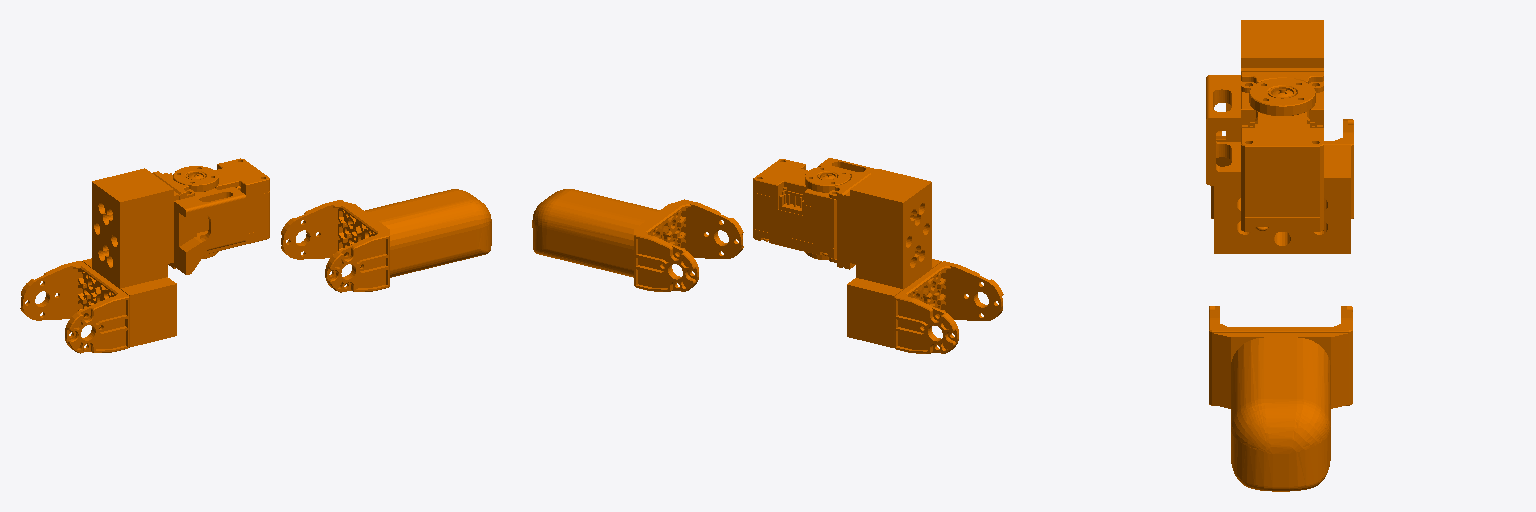
URDF robot description (onshape):
<robot name="onshape">
  <link name="palm_lower">
    <inertial>
      <origin xyz="0.0 0.0 0.0" rpy="0.0 -0.0 0.0"/>
      <mass value="0.237"/>
      <inertia ixx="0.000354094" ixy="-1.193e-06" ixz="-2.445e-06" iyy="0.000260915" iyz="-2.905e-06" izz="0.000529257"/>
    </inertial>
    <visual>
      <geometry>
        <mesh filename="../assets/leap/leap_hand/palm_lower.stl"/>
      </geometry>
      <origin xyz="-0.020095249652862544 0.025757756134899473 -0.034722403578460216" rpy="0.0 -0.0 0.0"/>
      <material name="palm_lower_material">
        <color rgba="0.6039215686274509 0.14901960784313725 0.14901960784313725 1.0"/>
      </material>
    </visual>
    <collision>
      <geometry>
        <mesh filename="../assets/leap/leap_hand/palm_lower.stl"/>
      </geometry>
      <origin xyz="-0.020095249652862544 0.025757756134899473 -0.034722403578460216" rpy="0.0 -0.0 0.0"/>
    </collision>
  </link>
  <link name="mcp_joint">
    <inertial>
      <origin xyz="0.0 0.0 0.0" rpy="0.0 -0.0 0.0"/>
      <mass value="0.044"/>
      <inertia ixx="1.1499e-05" ixy="3.049e-06" ixz="1.21e-07" iyy="7.796e-06" iyz="1.12e-07" izz="1.4759e-05"/>
    </inertial>
    <visual>
      <geometry>
        <mesh filename="../assets/leap/leap_hand/mcp_joint.stl"/>
      </geometry>
      <origin xyz="0.008406902261174496 0.0077662438597169954 0.014657354985032912" rpy="1.6375789613221e-15 -1.021047330249102e-30 1.7177968783327987e-31"/>
      <material name="mcp_joint_material">
        <color rgba="0.8666666666666667 0.8666666666666667 0.050980392156862744 1.0"/>
      </material>
    </visual>
    <collision>
      <geometry>
        <mesh filename="../assets/leap/leap_hand/mcp_joint.stl"/>
      </geometry>
      <origin xyz="0.008406902261174496 0.0077662438597169954 0.014657354985032912" rpy="1.6375789613221e-15 -1.021047330249102e-30 1.7177968783327987e-31"/>
    </collision>
  </link>
  <link name="pip">
    <inertial>
      <origin xyz="0.0 0.0 0.0" rpy="0.0 -0.0 0.0"/>
      <mass value="0.032"/>
      <inertia ixx="4.798e-06" ixy="1.2e-08" ixz="4e-09" iyy="2.862e-06" iyz="1.1e-08" izz="4.234e-06"/>
    </inertial>
    <visual>
      <geometry>
        <mesh filename="../assets/leap/leap_hand/pip.stl"/>
      </geometry>
      <origin xyz="0.009643363092271328 0.0002999999999999895 0.0007840340104173765" rpy="-1.5707963267948966 -1.5707963267948963 0.0"/>
      <material name="pip_material">
        <color rgba="0.7490196078431373 0.7490196078431373 0.7490196078431373 1.0"/>
      </material>
    </visual>
    <collision>
      <geometry>
        <mesh filename="../assets/leap/leap_hand/pip.stl"/>
      </geometry>
      <origin xyz="0.009643363092271328 0.0002999999999999895 0.0007840340104173765" rpy="-1.5707963267948966 -1.5707963267948963 0.0"/>
    </collision>
  </link>
  <link name="dip">
    <inertial>
      <origin xyz="0.0 0.0 0.0" rpy="0.0 -0.0 0.0"/>
      <mass value="0.037"/>
      <inertia ixx="5.542e-06" ixy="-6.07e-07" ixz="-1.7e-08" iyy="5.727e-06" iyz="-2.3e-08" izz="6.682e-06"/>
    </inertial>
    <visual>
      <geometry>
        <mesh filename="../assets/leap/leap_hand/dip.stl"/>
      </geometry>
      <origin xyz="0.021133352895225003 -0.00843211914670488 0.00978508816209524" rpy="-3.141592653589793 4.507511124216441e-32 4.439548105392361e-32"/>
      <material name="dip_material">
        <color rgba="0.8666666666666667 0.8666666666666667 0.050980392156862744 1.0"/>
      </material>
    </visual>
    <collision>
      <geometry>
        <mesh filename="../assets/leap/leap_hand/dip.stl"/>
      </geometry>
      <origin xyz="0.021133352895225003 -0.00843211914670488 0.00978508816209524" rpy="-3.141592653589793 4.507511124216441e-32 4.439548105392361e-32"/>
    </collision>
  </link>
  <link name="fingertip">
    <inertial>
      <origin xyz="0.0 0.0 0.0" rpy="0.0 -0.0 0.0"/>
      <mass value="0.016"/>
      <inertia ixx="3.368e-06" ixy="1.15e-07" ixz="0.0" iyy="1.556e-06" iyz="0.0" izz="2.863e-06"/>
    </inertial>
    <visual>
      <geometry>
        <mesh filename="../assets/leap/leap_hand/fingertip.stl"/>
      </geometry>
      <origin xyz="0.013286424108533503 -0.006114238386541987 0.014499999999999498" rpy="3.141592653589793 1.1993117970061735e-33 4.439548105392361e-32"/>
      <material name="fingertip_material">
        <color rgba="0.8666666666666667 0.8666666666666667 0.050980392156862744 1.0"/>
      </material>
    </visual>
    <collision>
      <geometry>
        <mesh filename="../assets/leap/leap_hand/fingertip.stl"/>
      </geometry>
      <origin xyz="0.013286424108533503 -0.006114238386541987 0.014499999999999498" rpy="3.141592653589793 1.1993117970061735e-33 4.439548105392361e-32"/>
    </collision>
  </link>
  <link name="pip_4">
    <inertial>
      <origin xyz="0.0 0.0 0.0" rpy="0.0 -0.0 0.0"/>
      <mass value="0.032"/>
      <inertia ixx="4.798e-06" ixy="1.2e-08" ixz="4e-09" iyy="2.862e-06" iyz="1.1e-08" izz="4.234e-06"/>
    </inertial>
    <visual>
      <geometry>
        <mesh filename="../assets/leap/leap_hand/pip.stl"/>
      </geometry>
      <origin xyz="-0.005356636907728671 0.0002999999999999999 0.0007840340104173782" rpy="-1.5707963267948966 -1.5707963267948963 0.0"/>
      <material name="pip_material">
        <color rgba="0.7490196078431373 0.7490196078431373 0.7490196078431373 1.0"/>
      </material>
    </visual>
    <collision>
      <geometry>
        <mesh filename="../assets/leap/leap_hand/pip.stl"/>
      </geometry>
      <origin xyz="-0.005356636907728671 0.0002999999999999999 0.0007840340104173782" rpy="-1.5707963267948966 -1.5707963267948963 0.0"/>
    </collision>
  </link>
  <link name="thumb_pip">
    <inertial>
      <origin xyz="0.0 0.0 0.0" rpy="0.0 -0.0 0.0"/>
      <mass value="0.003"/>
      <inertia ixx="5.93e-07" ixy="0.0" ixz="0.0" iyy="5.49e-07" iyz="0.0" izz="2.24e-07"/>
    </inertial>
    <visual>
      <geometry>
        <mesh filename="../assets/leap/leap_hand/thumb_pip.stl"/>
      </geometry>
      <origin xyz="0.011961920770611187 -5.30825383648903e-16 -0.0158526489566642" rpy="1.5707963267948966 1.6050198443300153e-46 -3.9204996250525193e-59"/>
      <material name="thumb_pip_material">
        <color rgba="0.8666666666666667 0.8666666666666667 0.050980392156862744 1.0"/>
      </material>
    </visual>
    <collision>
      <geometry>
        <mesh filename="../assets/leap/leap_hand/thumb_pip.stl"/>
      </geometry>
      <origin xyz="0.011961920770611187 -5.30825383648903e-16 -0.0158526489566642" rpy="1.5707963267948966 1.6050198443300153e-46 -3.9204996250525193e-59"/>
    </collision>
  </link>
  <link name="thumb_dip">
    <inertial>
      <origin xyz="0.0 0.0 0.0" rpy="0.0 -0.0 0.0"/>
      <mass value="0.038"/>
      <inertia ixx="8.474e-06" ixy="2.41e-07" ixz="2.6e-08" iyy="3.841e-06" iyz="2.5e-08" izz="7.679e-06"/>
    </inertial>
    <visual>
      <geometry>
        <mesh filename="../assets/leap/leap_hand/thumb_dip.stl"/>
      </geometry>
      <origin xyz="0.043968715707239175 0.0579529529737092 -0.008628676449369476" rpy="1.94289029309401e-16 3.27515792264422e-15 1.112375852965736e-46"/>
      <material name="thumb_dip_material">
        <color rgba="0.8666666666666667 0.8666666666666667 0.050980392156862744 1.0"/>
      </material>
    </visual>
    <collision>
      <geometry>
        <mesh filename="../assets/leap/leap_hand/thumb_dip.stl"/>
      </geometry>
      <origin xyz="0.043968715707239175 0.0579529529737092 -0.008628676449369476" rpy="1.94289029309401e-16 3.27515792264422e-15 1.112375852965736e-46"/>
    </collision>
  </link>
  <link name="thumb_fingertip">
    <inertial>
      <origin xyz="0.0 0.0 0.0" rpy="0.0 -0.0 0.0"/>
      <mass value="0.049"/>
      <inertia ixx="2.0372e-05" ixy="-4.89e-07" ixz="-3e-08" iyy="4.336e-06" iyz="-9.7e-08" izz="1.9845e-05"/>
    </inertial>
    <visual>
      <geometry>
        <mesh filename="../assets/leap/leap_hand/thumb_fingertip.stl"/>
      </geometry>
      <origin xyz="0.06255953846266739 0.07845968291139699 0.048992911807332215" rpy="4.379057701015637e-47 -3.33066907387547e-16 1.2042408677791935e-46"/>
      <material name="thumb_fingertip_material">
        <color rgba="0.6039215686274509 0.14901960784313725 0.14901960784313725 1.0"/>
      </material>
    </visual>
    <collision>
      <geometry>
        <mesh filename="../assets/leap/leap_hand/thumb_fingertip.stl"/>
      </geometry>
      <origin xyz="0.06255953846266739 0.07845968291139699 0.048992911807332215" rpy="4.379057701015637e-47 -3.33066907387547e-16 1.2042408677791935e-46"/>
    </collision>
  </link>
  <link name="mcp_joint_2">
    <inertial>
      <origin xyz="0.0 0.0 0.0" rpy="0.0 -0.0 0.0"/>
      <mass value="0.044"/>
      <inertia ixx="1.1499e-05" ixy="3.049e-06" ixz="1.21e-07" iyy="7.796e-06" iyz="1.12e-07" izz="1.4759e-05"/>
    </inertial>
    <visual>
      <geometry>
        <mesh filename="../assets/leap/leap_hand/mcp_joint.stl"/>
      </geometry>
      <origin xyz="0.008406902261174496 0.0077662438597169954 0.014657354985032914" rpy="1.6375789613221e-15 -1.0076465469034e-30 2.1209300131419907e-61"/>
      <material name="mcp_joint_material">
        <color rgba="0.8666666666666667 0.8666666666666667 0.050980392156862744 1.0"/>
      </material>
    </visual>
    <collision>
      <geometry>
        <mesh filename="../assets/leap/leap_hand/mcp_joint.stl"/>
      </geometry>
      <origin xyz="0.008406902261174496 0.0077662438597169954 0.014657354985032914" rpy="1.6375789613221e-15 -1.0076465469034e-30 2.1209300131419907e-61"/>
    </collision>
  </link>
  <link name="pip_2">
    <inertial>
      <origin xyz="0.0 0.0 0.0" rpy="0.0 -0.0 0.0"/>
      <mass value="0.032"/>
      <inertia ixx="4.798e-06" ixy="1.2e-08" ixz="4e-09" iyy="2.862e-06" iyz="1.1e-08" izz="4.234e-06"/>
    </inertial>
    <visual>
      <geometry>
        <mesh filename="../assets/leap/leap_hand/pip.stl"/>
      </geometry>
      <origin xyz="0.009643363092271328 0.0002999999999999947 0.0007840340104173765" rpy="-1.5707963267948966 -1.5707963267948963 0.0"/>
      <material name="pip_material">
        <color rgba="0.7490196078431373 0.7490196078431373 0.7490196078431373 1.0"/>
      </material>
    </visual>
    <collision>
      <geometry>
        <mesh filename="../assets/leap/leap_hand/pip.stl"/>
      </geometry>
      <origin xyz="0.009643363092271328 0.0002999999999999947 0.0007840340104173765" rpy="-1.5707963267948966 -1.5707963267948963 0.0"/>
    </collision>
  </link>
  <link name="dip_2">
    <inertial>
      <origin xyz="0.0 0.0 0.0" rpy="0.0 -0.0 0.0"/>
      <mass value="0.037"/>
      <inertia ixx="5.542e-06" ixy="-6.07e-07" ixz="-1.7e-08" iyy="5.727e-06" iyz="-2.3e-08" izz="6.682e-06"/>
    </inertial>
    <visual>
      <geometry>
        <mesh filename="../assets/leap/leap_hand/dip.stl"/>
      </geometry>
      <origin xyz="0.021133352895225003 -0.008432119146704865 0.009785088162095237" rpy="-3.141592653589793 2.1146933785271956e-32 1.4408183216511869e-31"/>
      <material name="dip_material">
        <color rgba="0.8666666666666667 0.8666666666666667 0.050980392156862744 1.0"/>
      </material>
    </visual>
    <collision>
      <geometry>
        <mesh filename="../assets/leap/leap_hand/dip.stl"/>
      </geometry>
      <origin xyz="0.021133352895225003 -0.008432119146704865 0.009785088162095237" rpy="-3.141592653589793 2.1146933785271956e-32 1.4408183216511869e-31"/>
    </collision>
  </link>
  <link name="fingertip_2">
    <inertial>
      <origin xyz="0.0 0.0 0.0" rpy="0.0 -0.0 0.0"/>
      <mass value="0.016"/>
      <inertia ixx="3.368e-06" ixy="1.15e-07" ixz="0.0" iyy="1.556e-06" iyz="0.0" izz="2.863e-06"/>
    </inertial>
    <visual>
      <geometry>
        <mesh filename="../assets/leap/leap_hand/fingertip.stl"/>
      </geometry>
      <origin xyz="0.013286424108533496 -0.006114238386542001 0.014499999999999496" rpy="3.141592653589793 -4.317959788283594e-33 1.4408183216511869e-31"/>
      <material name="fingertip_material">
        <color rgba="0.8666666666666667 0.8666666666666667 0.050980392156862744 1.0"/>
      </material>
    </visual>
    <collision>
      <geometry>
        <mesh filename="../assets/leap/leap_hand/fingertip.stl"/>
      </geometry>
      <origin xyz="0.013286424108533496 -0.006114238386542001 0.014499999999999496" rpy="3.141592653589793 -4.317959788283594e-33 1.4408183216511869e-31"/>
    </collision>
  </link>
  <link name="mcp_joint_3_long">
    <inertial>
      <origin xyz="0.0 0.0 0.0" rpy="0.0 -0.0 0.0"/>
      <mass value="0.044"/>
      <inertia ixx="1.1499e-05" ixy="3.049e-06" ixz="1.21e-07" iyy="7.796e-06" iyz="1.12e-07" izz="1.4759e-05"/>
    </inertial>
    <visual>
      <geometry>
        <mesh filename="custom_models/mcp_joint_long.stl"/>
      </geometry>
      <origin xyz="0.0084069022611745 0.007766243859716996 0.014657354985032914" rpy="1.6375789613221e-15 -1.0059504988632627e-30 5.729641584552035e-32"/>
      <material name="mcp_joint_material">
        <color rgba="0.878 0.467 0.0 1.0"/>
      </material>
    </visual>
    <collision>
      <geometry>
        <mesh filename="custom_models/mcp_joint_long.stl"/>
      </geometry>
      <origin xyz="0.0084069022611745 0.007766243859716996 0.014657354985032914" rpy="1.6375789613221e-15 -1.0059504988632627e-30 5.729641584552035e-32"/>
    </collision>
  </link>
  <link name="pip_3">
    <inertial>
      <origin xyz="0.0 0.0 0.0" rpy="0.0 -0.0 0.0"/>
      <mass value="0.032"/>
      <inertia ixx="4.798e-06" ixy="1.2e-08" ixz="4e-09" iyy="2.862e-06" iyz="1.1e-08" izz="4.234e-06"/>
    </inertial>
    <visual>
      <geometry>
        <mesh filename="../assets/leap/leap_hand/pip.stl"/>
      </geometry>
      <origin xyz="0.009643363092271331 0.00029999999999998084 0.0007840340104173765" rpy="-1.5707963267948966 -1.5707963267948963 0.0"/>
      <material name="pip_material">
        <color rgba="0.7490196078431373 0.7490196078431373 0.7490196078431373 1.0"/>
      </material>
    </visual>
    <collision>
      <geometry>
        <mesh filename="../assets/leap/leap_hand/pip.stl"/>
      </geometry>
      <origin xyz="0.009643363092271331 0.00029999999999998084 0.0007840340104173765" rpy="-1.5707963267948966 -1.5707963267948963 0.0"/>
    </collision>
  </link>
  <link name="dip_3">
    <inertial>
      <origin xyz="0.0 0.0 0.0" rpy="0.0 -0.0 0.0"/>
      <mass value="0.037"/>
      <inertia ixx="5.542e-06" ixy="-6.07e-07" ixz="-1.7e-08" iyy="5.727e-06" iyz="-2.3e-08" izz="6.682e-06"/>
    </inertial>
    <visual>
      <geometry>
        <mesh filename="../assets/leap/leap_hand/dip.stl"/>
      </geometry>
      <origin xyz="0.021133352895225006 -0.008432119146704865 0.009785088162095237" rpy="-3.141592653589793 -1.4095651113919093e-33 1.5565411607615035e-32"/>
      <material name="dip_material">
        <color rgba="0.8666666666666667 0.8666666666666667 0.050980392156862744 1.0"/>
      </material>
    </visual>
    <collision>
      <geometry>
        <mesh filename="../assets/leap/leap_hand/dip.stl"/>
      </geometry>
      <origin xyz="0.021133352895225006 -0.008432119146704865 0.009785088162095237" rpy="-3.141592653589793 -1.4095651113919093e-33 1.5565411607615035e-32"/>
    </collision>
  </link>
  <link name="fingertip_3_long">
    <inertial>
      <origin xyz="0.0 0.0 0.0" rpy="0.0 -0.0 0.0"/>
      <mass value="0.016"/>
      <inertia ixx="3.368e-06" ixy="1.15e-07" ixz="0.0" iyy="1.556e-06" iyz="0.0" izz="2.863e-06"/>
    </inertial>
    <visual>
      <geometry>
        <mesh filename="custom_models/fingertip_long.stl"/>
      </geometry>
      <origin xyz="0.013286424108533501 -0.006114238386541987 0.0144999999999995" rpy="3.141592653589793 8.61707169505754e-33 1.5565411607615035e-32"/>
      <material name="fingertip_material">
        <color rgba="0.878 0.467 0.0 1.0"/>
      </material>
    </visual>
    <collision>
      <geometry>
        <mesh filename="custom_models/fingertip_long.stl"/>
      </geometry>
      <origin xyz="0.013286424108533501 -0.006114238386541987 0.0144999999999995" rpy="3.141592653589793 8.61707169505754e-33 1.5565411607615035e-32"/>
    </collision>
  </link>
  <joint name="1" type="revolute">
    <parent link="palm_lower"/>
    <child link="mcp_joint"/>
    <origin xyz="-0.007095249652862546 0.023057756134899472 -0.01872240357846022" rpy="1.570796326794895 1.5707963267948946 0.0"/>
    <axis xyz="0.0 0.0 -1.0"/>
    <limit effort="0.95" velocity="8.48" lower="-0.314" upper="2.23"/>
  </joint>
  <joint name="0" type="revolute">
    <parent link="mcp_joint"/>
    <child link="pip"/>
    <origin xyz="-0.012200000000000008 0.038099999999999995 0.0145" rpy="-1.5707963267948966 -1.0065212660796337e-15 1.5707963267948943"/>
    <axis xyz="0.0 0.0 -1.0"/>
    <limit effort="0.95" velocity="8.48" lower="-1.047" upper="1.047"/>
  </joint>
  <joint name="2" type="revolute">
    <parent link="pip"/>
    <child link="dip"/>
    <origin xyz="0.014999999999999968 0.014299999999999905 -0.012999999999999824" rpy="1.570796326794896 -1.5707963267948963 0.0"/>
    <axis xyz="0.0 0.0 -1.0"/>
    <limit effort="0.95" velocity="8.48" lower="-0.506" upper="1.885"/>
  </joint>
  <joint name="3" type="revolute">
    <parent link="dip"/>
    <child link="fingertip"/>
    <origin xyz="-4.088058249557269e-09 -0.03610000421036737 0.0002000000000000786" rpy="4.5935029425113685e-17 -2.8730071914463795e-16 4.439548105392361e-32"/>
    <axis xyz="0.0 0.0 -1.0"/>
    <limit effort="0.95" velocity="8.48" lower="-0.366" upper="2.042"/>
  </joint>
  <joint name="12" type="revolute">
    <parent link="palm_lower"/>
    <child link="pip_4"/>
    <origin xyz="-0.06939524965286253 -0.0012422438651005258 -0.021622403578460216" rpy="-8.238176646493942e-17 1.5707963267948957 0.0"/>
    <axis xyz="0.0 0.0 -1.0"/>
    <limit effort="0.95" velocity="8.48" lower="-0.349" upper="2.094"/>
  </joint>
  <joint name="13" type="revolute">
    <parent link="pip_4"/>
    <child link="thumb_pip"/>
    <origin xyz="-2.7755575615628914e-17 0.014300000000000005 -0.013000000000000012" rpy="1.570796326794896 -1.5707963267948963 0.0"/>
    <axis xyz="0.0 0.0 -1.0"/>
    <limit effort="0.95" velocity="8.48" lower="-0.47" upper="2.443"/>
  </joint>
  <joint name="14" type="revolute">
    <parent link="thumb_pip"/>
    <child link="thumb_dip"/>
    <origin xyz="0.0 0.014499999999999966 -0.017000000000000053" rpy="-1.5707963267948966 1.6050198443300131e-46 -1.9721522630516625e-31"/>
    <axis xyz="0.0 0.0 -1.0"/>
    <limit effort="0.95" velocity="8.48" lower="-1.2" upper="1.9"/>
  </joint>
  <joint name="15" type="revolute">
    <parent link="thumb_dip"/>
    <child link="thumb_fingertip"/>
    <origin xyz="-1.249000902703301e-16 0.046599999999999864 0.0001999999999999771" rpy="1.506395849149178e-44 5.423418723393526e-31 3.141592653589793"/>
    <axis xyz="0.0 0.0 -1.0"/>
    <limit effort="0.95" velocity="8.48" lower="-1.34" upper="1.88"/>
  </joint>
  <joint name="5" type="revolute">
    <parent link="palm_lower"/>
    <child link="mcp_joint_2"/>
    <origin xyz="-0.007095249652862546 -0.022392243865100525 -0.01872240357846022" rpy="1.570796326794895 1.5707963267948946 0.0"/>
    <axis xyz="0.0 0.0 -1.0"/>
    <limit effort="0.95" velocity="8.48" lower="-0.314" upper="2.23"/>
  </joint>
  <joint name="4" type="revolute">
    <parent link="mcp_joint_2"/>
    <child link="pip_2"/>
    <origin xyz="-0.012200000000000008 0.038099999999999995 0.0145" rpy="-1.5707963267948966 -1.0065212660796337e-15 1.5707963267948943"/>
    <axis xyz="0.0 0.0 -1.0"/>
    <limit effort="0.95" velocity="8.48" lower="-1.047" upper="1.047"/>
  </joint>
  <joint name="6" type="revolute">
    <parent link="pip_2"/>
    <child link="dip_2"/>
    <origin xyz="0.014999999999999968 0.014299999999999905 -0.012999999999999824" rpy="1.570796326794896 -1.5707963267948963 0.0"/>
    <axis xyz="0.0 0.0 -1.0"/>
    <limit effort="0.95" velocity="8.48" lower="-0.506" upper="1.885"/>
  </joint>
  <joint name="7" type="revolute">
    <parent link="dip_2"/>
    <child link="fingertip_2"/>
    <origin xyz="-4.088058249557269e-09 -0.03610000421036737 0.0002000000000000786" rpy="4.5935029425113685e-17 -2.8730071914463795e-16 4.439548105392361e-32"/>
    <axis xyz="0.0 0.0 -1.0"/>
    <limit effort="0.95" velocity="8.48" lower="-0.366" upper="2.042"/>
  </joint>
  <joint name="9" type="revolute">
    <parent link="palm_lower"/>
    <child link="mcp_joint_3_long"/>
    <origin xyz="-0.007095249652862546 -0.06784224386510052 -0.01872240357846022" rpy="1.570796326794895 1.5707963267948946 0.0"/>
    <axis xyz="0.0 0.0 -1.0"/>
    <limit effort="0.95" velocity="8.48" lower="-0.314" upper="2.23"/>
  </joint>
  <joint name="8" type="revolute">
    <parent link="mcp_joint_3_long"/>
    <child link="pip_3"/>
    <origin xyz="-0.012200000000000007713 0.053099999999999994982 0.014500000000000000736" rpy="-1.5707963267948966 -1.0065212660796337e-15 1.5707963267948943"/>
    <axis xyz="0.0 0.0 -1.0"/>
    <limit effort="0.95" velocity="8.48" lower="-1.047" upper="1.047"/>
  </joint>
  <joint name="10" type="revolute">
    <parent link="pip_3"/>
    <child link="dip_3"/>
    <origin xyz="0.014999999999999968 0.014299999999999905 -0.012999999999999824" rpy="1.570796326794896 -1.5707963267948963 0.0"/>
    <axis xyz="0.0 0.0 -1.0"/>
    <limit effort="0.95" velocity="8.48" lower="-0.506" upper="1.885"/>
  </joint>
  <joint name="11" type="revolute">
    <parent link="dip_3"/>
    <child link="fingertip_3_long"/>
    <origin xyz="-4.088058249557269e-09 -0.03610000421036737 0.0002000000000000786" rpy="4.5935029425113685e-17 -2.8730071914463795e-16 4.439548105392361e-32"/>
    <axis xyz="0.0 0.0 -1.0"/>
    <limit effort="0.95" velocity="8.48" lower="-0.366" upper="2.042"/>
  </joint>
</robot>

--- What the picture shows (computed from the rendered views, not written in the file) ---
3 views of the same robot in one strip: view 1: azimuth 30°, elevation 25°; view 2: azimuth 150°, elevation 25°; view 3: azimuth 270°, elevation 25° (orthographic).
Robot: onshape — 17 links, 16 joints (16 revolute); root link palm_lower; default pose: every joint at zero.
Visible links, largest first — view 1: mcp_joint_3_long, fingertip_3_long; view 2: mcp_joint_3_long, fingertip_3_long; view 3: mcp_joint_3_long, fingertip_3_long.
Boxes of the visible links, x1,y1,x2,y2 form: mcp_joint_3_long: (20, 158, 269, 353); fingertip_3_long: (281, 189, 491, 292); mcp_joint_3_long: (753, 158, 1003, 353); fingertip_3_long: (532, 189, 743, 291); mcp_joint_3_long: (1206, 20, 1353, 253); fingertip_3_long: (1209, 306, 1352, 491).
Bounding box of the posed robot: 0.1766 × 0.0358 × 0.0549 m (x, y, z).
Meshes: 10 distinct files referenced, 2 mesh visuals loaded (2 binary STL); not drawn: 15 (reference not matched to a file when rendering).